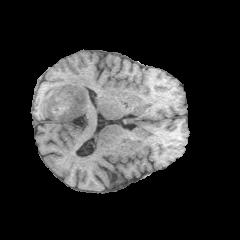glioma: (38, 76, 94, 121)
